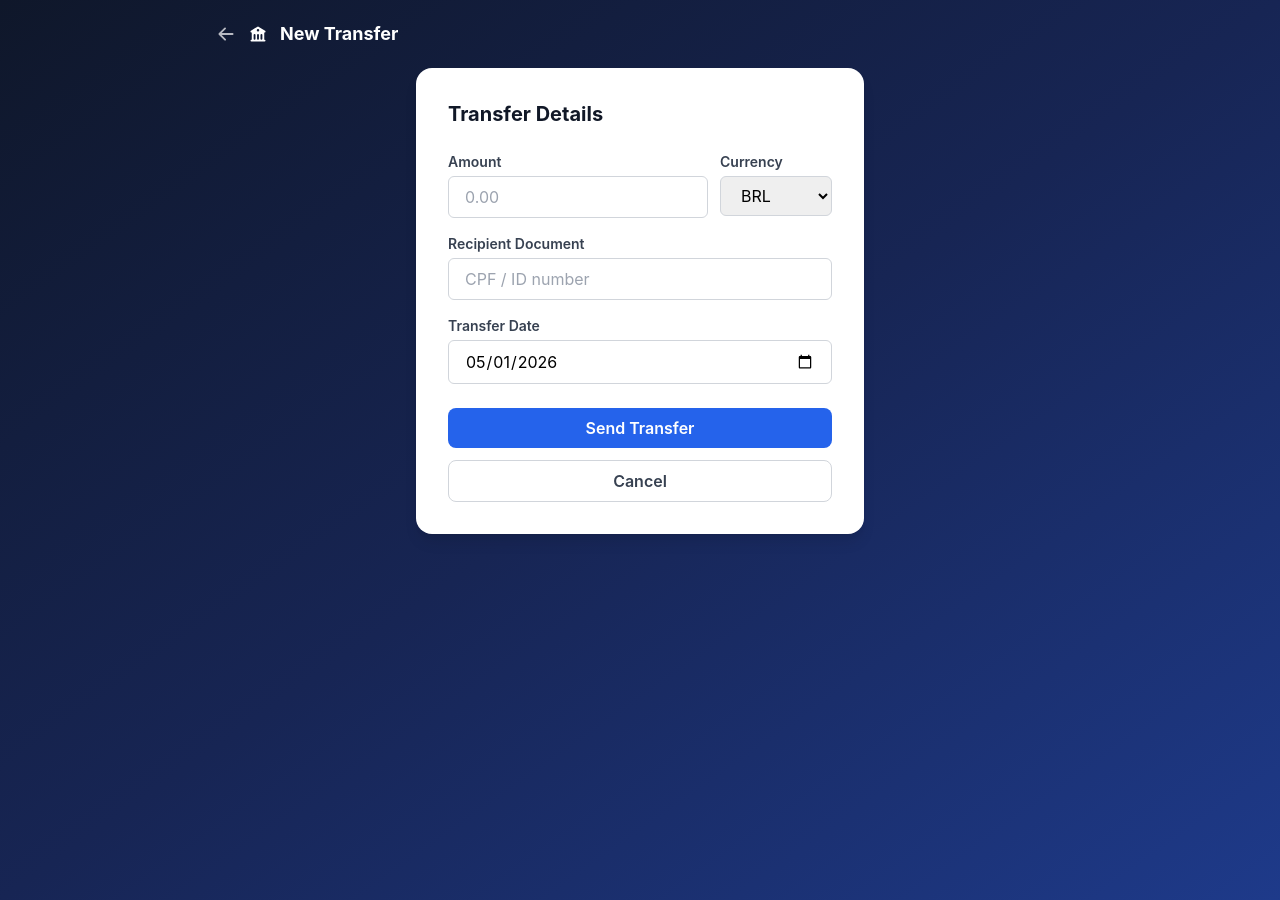
it: NewTransferPage › shows validation error when amount is empty or zero
Click the button "Send Transfer". click: click(640, 428)
box: x1=448 y1=408 x2=832 y2=448
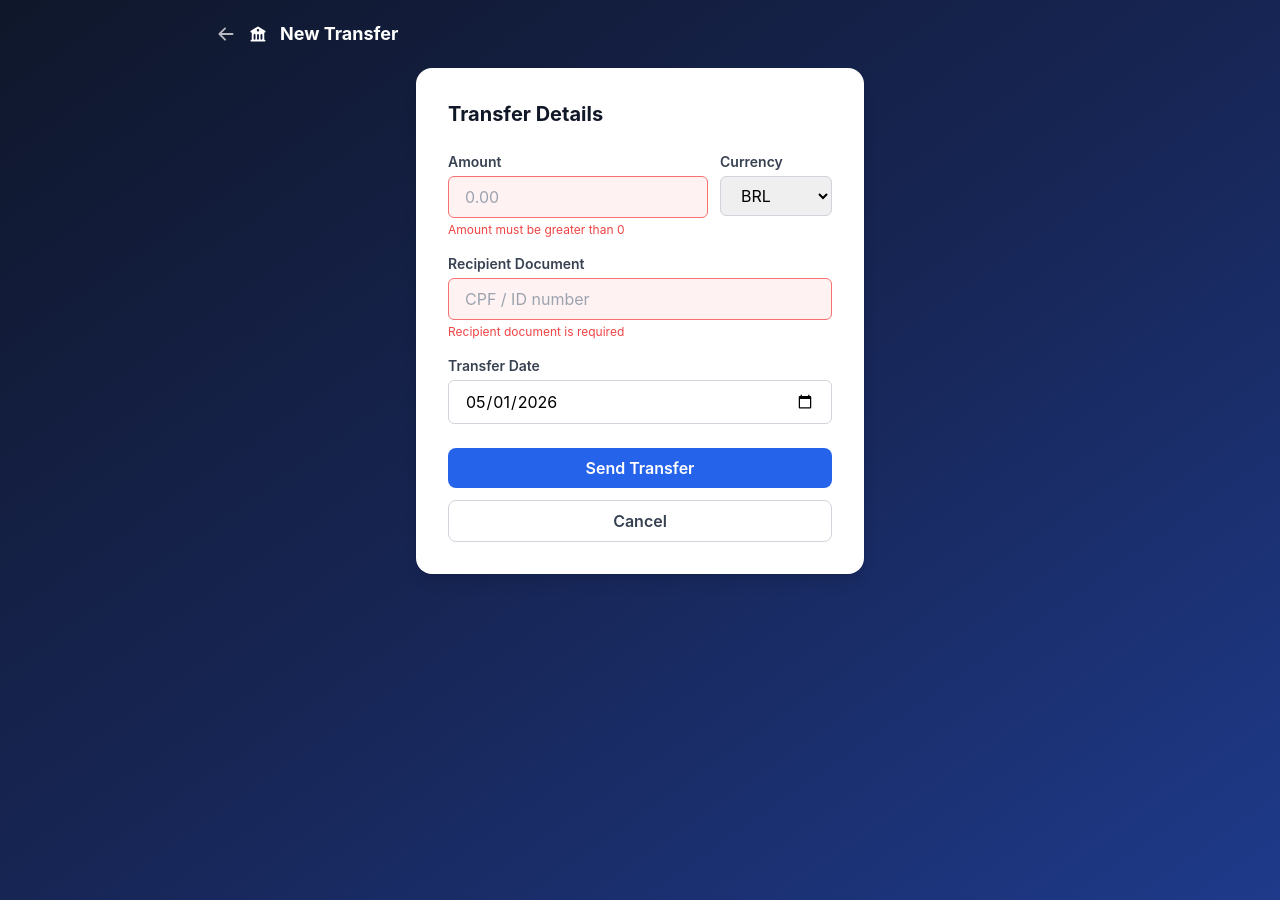
Expected: the text "Amount must be greater than 0" is shown, x1=448 y1=222 x2=624 y2=237
Type "0" into the number field labelled "Amount". click: (578, 197)
box: x1=448 y1=176 x2=708 y2=218
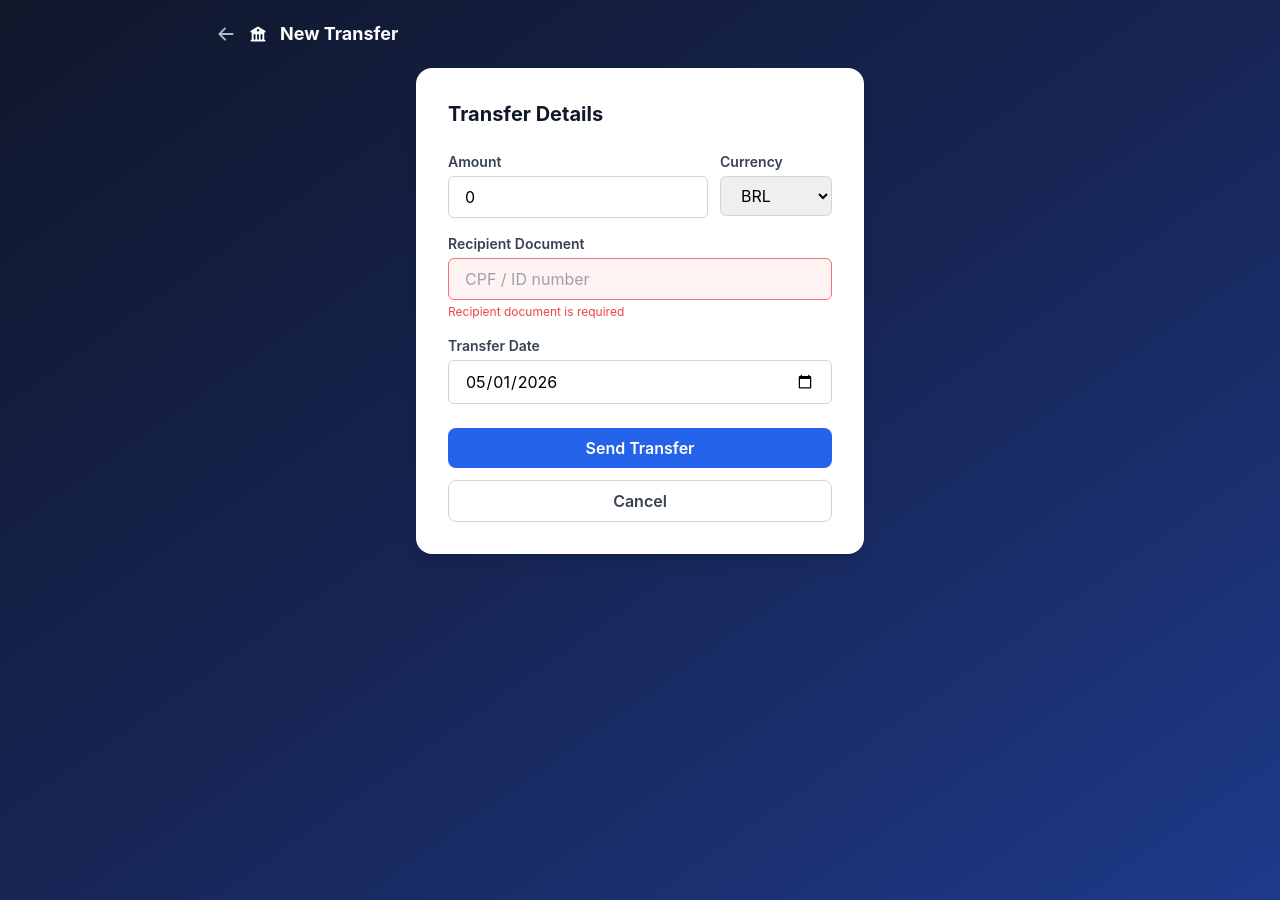
Click the button "Send Transfer". click: click(640, 448)
box: x1=448 y1=428 x2=832 y2=468
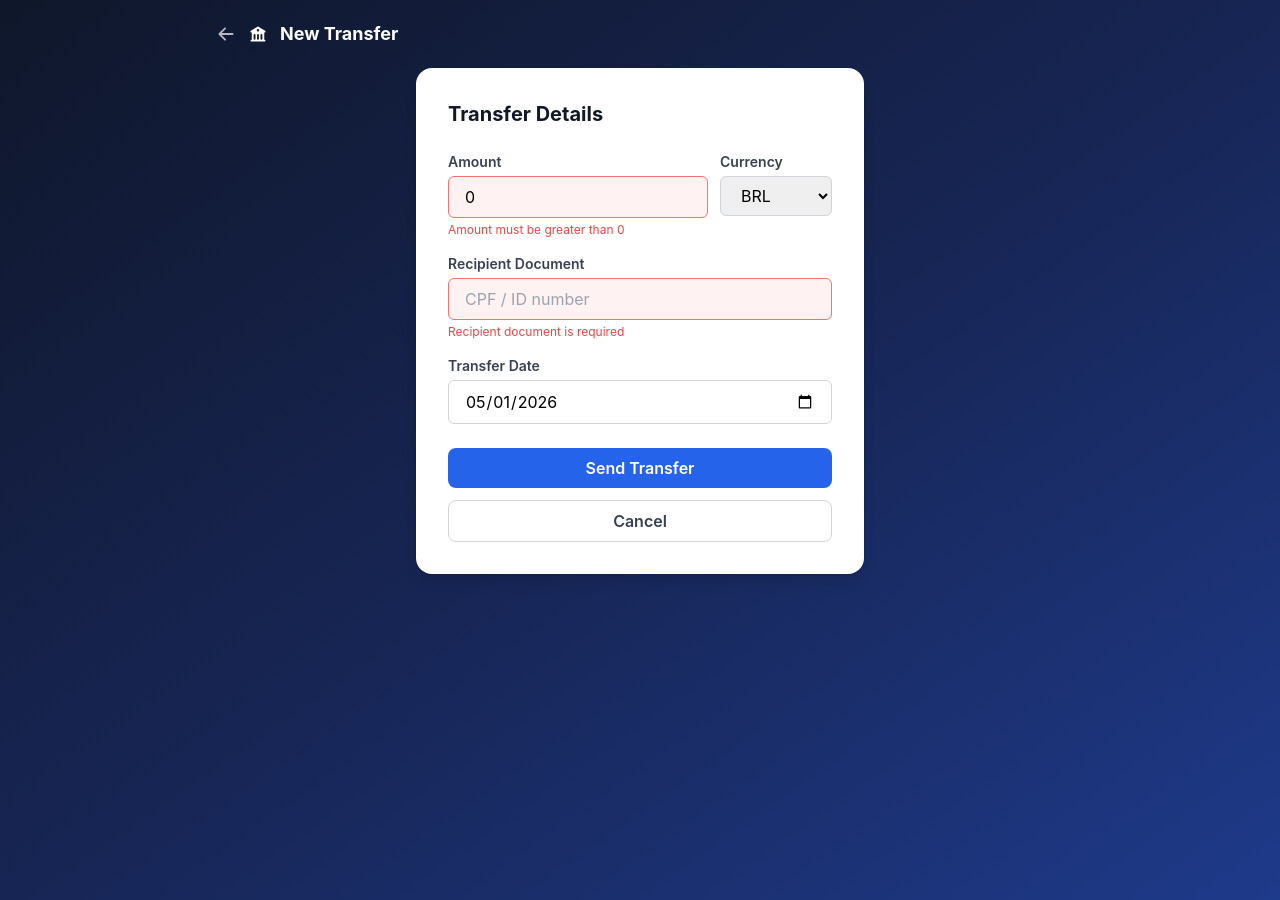
Expected: the text "Amount must be greater than 0" is shown, x1=448 y1=222 x2=624 y2=237
